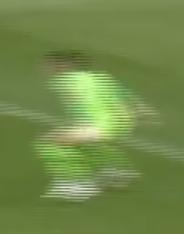goalkeeper: (23, 29, 170, 218)
